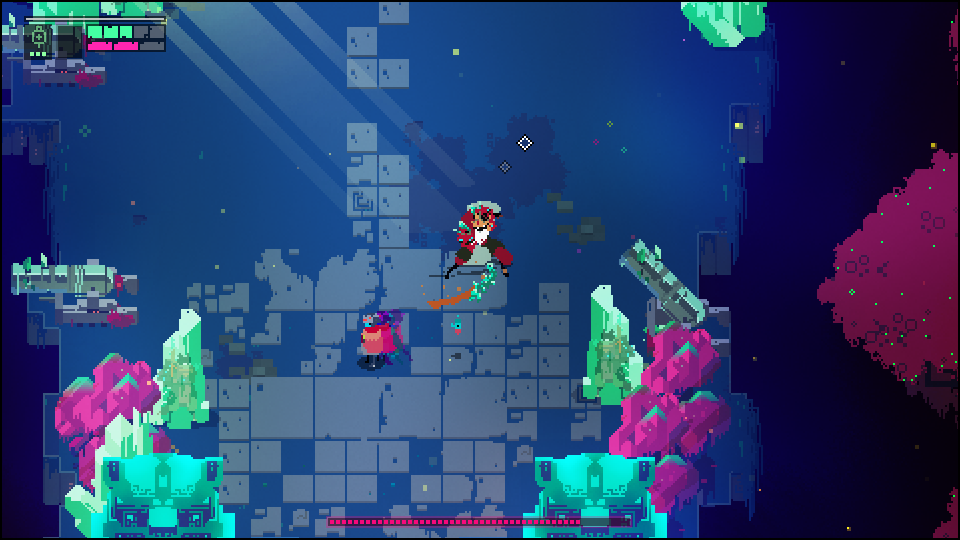hanged_man: (446, 201, 514, 307)
player: (357, 312, 381, 369)
